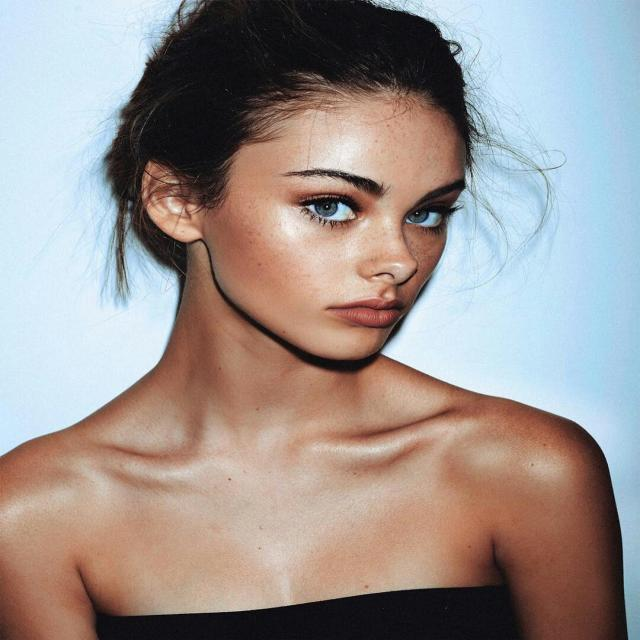earlobe: (140, 158, 200, 243)
